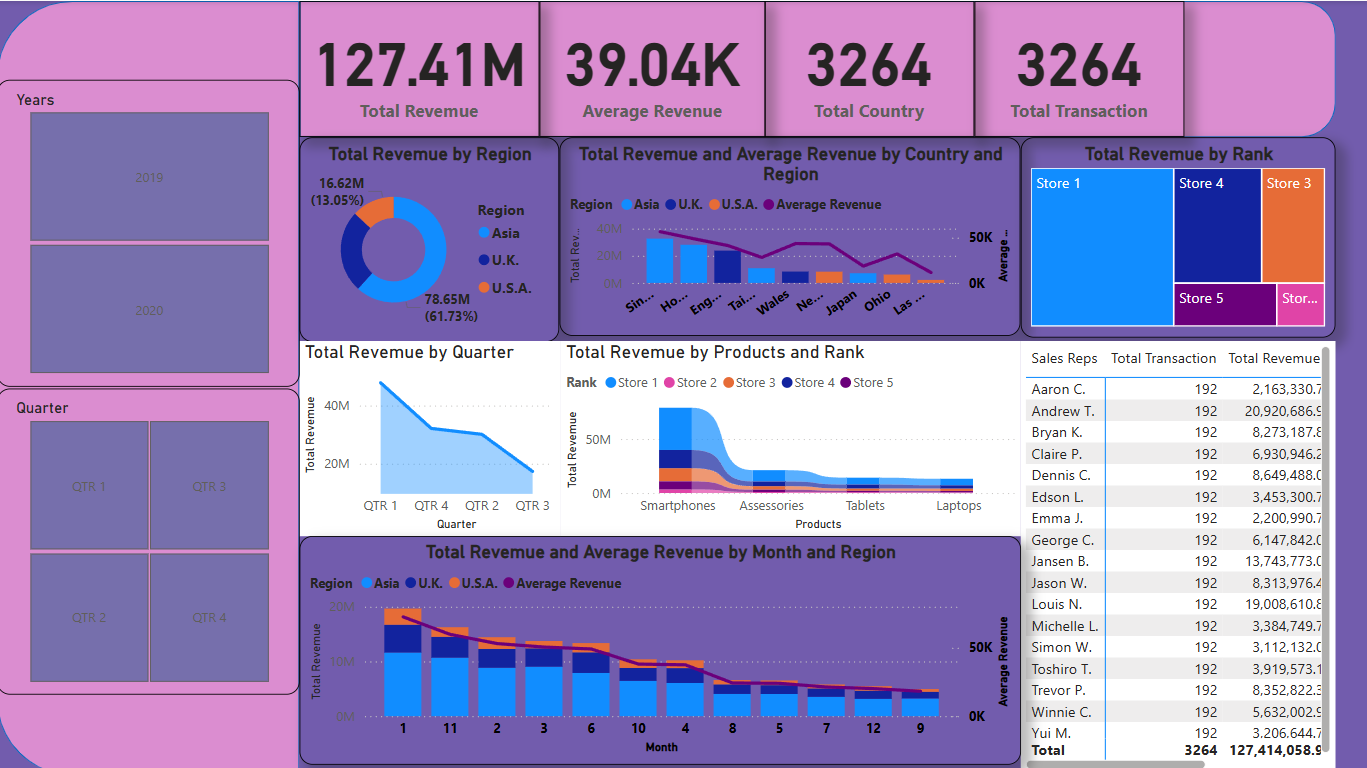

This screenshot's page, from the dashboard's own definition file:
{"tool":"powerbi","page":{"name":"Page 1","canvas":[1280,720],"ordinal":0},"visuals":[{"type":"shape","box":[0,0,281.2,720.3],"z":0},{"type":"shape","box":[281.4,0,964,126.7],"z":1000},{"type":"card","fields":{"Values":["Measures (2).Total Revemue"]},"box":[281.4,0,223.3,126.7],"z":2000},{"type":"card","fields":{"Values":["Measures (2).Average Revenue"]},"box":[504.7,0,210.5,126.7],"z":3000},{"type":"card","fields":{"Values":["Measures (2).Total Country"]},"box":[714,0,195.3,126.7],"z":4000},{"type":"card","fields":{"Values":["Measures (2).Total Transaction"]},"box":[909.3,0,195.3,126.7],"z":5000},{"type":"donutChart","fields":{"Y":["Measures (2).Total Revemue"],"Category":["Sheet1.Region"]},"box":[281.4,126.7,241.9,190.7],"z":6000},{"type":"lineStackedColumnComboChart","fields":{"Y":["Measures (2).Total Revemue"],"Y2":["Measures (2).Average Revenue"],"Category":["Sheet1.Country"],"Series":["Sheet1.Region"]},"box":[523.3,126.7,429.1,184.9],"z":7000},{"type":"treemap","fields":{"Values":["Measures (2).Total Revemue"],"Group":["Sheet1.Rank"]},"box":[952.3,126.7,293,186],"z":8000},{"type":"areaChart","fields":{"Y":["Measures (2).Total Revemue"],"Category":["Sheet1.Quarter"]},"box":[281.4,316.1,242.9,181.2],"z":9000},{"type":"ribbonChart","fields":{"Category":["Sheet1.Products"],"Y":["Measures (2).Total Revemue"],"Series":["Sheet1.Rank"]},"box":[524.4,316.3,427.9,181.4],"z":10000},{"type":"pivotTable","fields":{"Rows":["Sheet1.Sales Reps"],"Values":["Measures (2).Total Transaction","Measures (2).Total Revemue","Measures (2).Average Revenue"]},"box":[952.3,316.3,293,403.5],"z":11000},{"type":"lineStackedColumnComboChart","fields":{"Y":["Measures (2).Total Revemue"],"Y2":["Measures (2).Average Revenue"],"Series":["Sheet1.Region"],"Category":["Sheet1.Month"]},"box":[281.4,497.7,670.9,212.8],"z":12000},{"type":"slicer","fields":{"Values":["Sheet1.Years"]},"box":[0,73.3,281.4,285.3],"z":13000},{"type":"slicer","fields":{"Values":["Sheet1.Quarter"]},"box":[0,360.5,281.4,284.9],"z":14000}]}

Visuals, with their boxes in screenshot pixels (x1, y1, x2, y2), scaled from the page's 1280x720 canvas onto the 1367x768 screenshot:
shape: BBox(0, 0, 300, 767)
shape: BBox(301, 0, 1330, 135)
card - Measures (2).Total Revemue: BBox(301, 0, 539, 135)
card - Measures (2).Average Revenue: BBox(539, 0, 764, 135)
card - Measures (2).Total Country: BBox(763, 0, 971, 135)
card - Measures (2).Total Transaction: BBox(971, 0, 1180, 135)
donutChart - Measures (2).Total Revemue x Sheet1.Region: BBox(301, 135, 559, 339)
lineStackedColumnComboChart - Measures (2).Total Revemue x Measures (2).Average Revenue: BBox(559, 135, 1017, 332)
treemap - Measures (2).Total Revemue x Sheet1.Rank: BBox(1017, 135, 1330, 334)
areaChart - Measures (2).Total Revemue x Sheet1.Quarter: BBox(301, 337, 560, 530)
ribbonChart - Sheet1.Products x Measures (2).Total Revemue: BBox(560, 337, 1017, 531)
pivotTable - Sheet1.Sales Reps x Measures (2).Total Transaction: BBox(1017, 337, 1330, 767)
lineStackedColumnComboChart - Measures (2).Total Revemue x Measures (2).Average Revenue: BBox(301, 531, 1017, 758)
slicer - Sheet1.Years: BBox(0, 78, 301, 383)
slicer - Sheet1.Quarter: BBox(0, 385, 301, 688)
